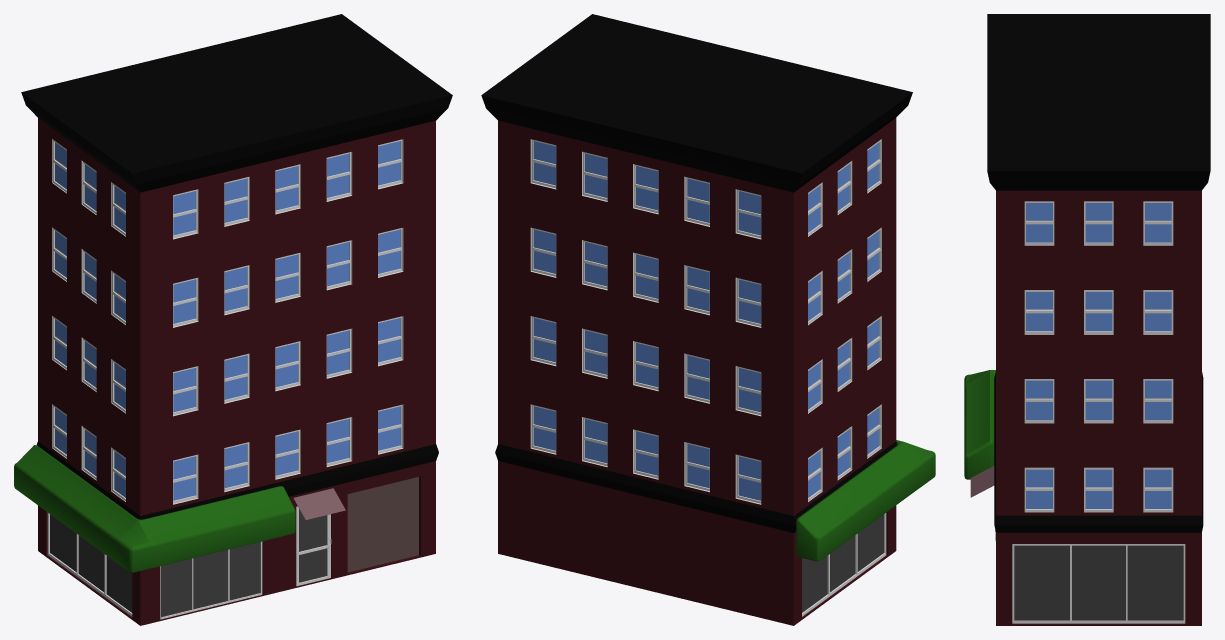
File: building10.fbx
The picture shows the model from 3 angles, left to right: view 1: azimuth 30°, elevation 25°; view 2: azimuth 150°, elevation 25°; view 3: azimuth 270°, elevation 25°; orthographic projection.
Visible parts, largest first — view 1: building1; view 2: building1; view 3: building1.
Boxes of the visible parts, left/top/right/bottom form: building1: left=14, top=14, right=452, bottom=625; building1: left=481, top=14, right=935, bottom=625; building1: left=964, top=14, right=1210, bottom=625.
Size of the model in its own units: 2605 by 3423 by 1656.
